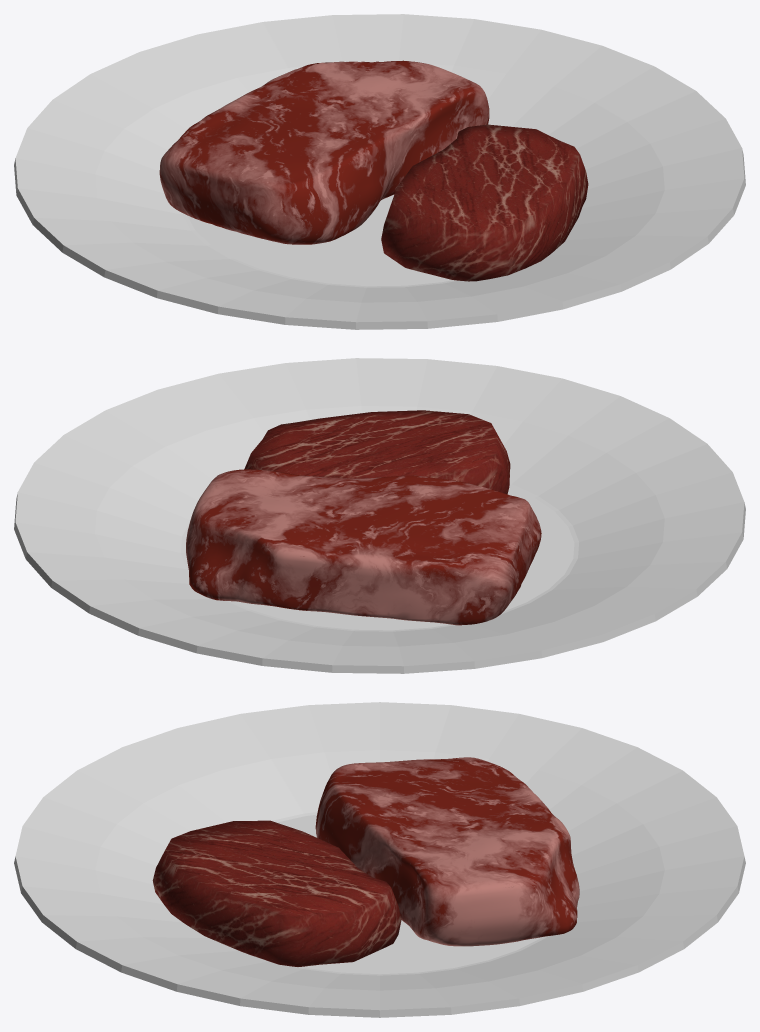
File: trimmed_pork.fbx
The picture shows the model from 3 angles, top to bottom: view 1: azimuth 30°, elevation 25°; view 2: azimuth 150°, elevation 25°; view 3: azimuth 270°, elevation 25°; orthographic projection.
Visible parts, largest first — view 1: 원형.002, Raw beef meat, Cube; view 2: 원형.002, Raw beef meat, Cube; view 3: 원형.002, Raw beef meat, Cube.
Boxes of the visible parts, x1,y1,x2,y2 form: 원형.002: [14, 14, 745, 329]; Raw beef meat: [159, 60, 489, 244]; Cube: [381, 124, 588, 281]; 원형.002: [14, 358, 745, 673]; Raw beef meat: [186, 469, 541, 625]; Cube: [244, 410, 510, 494]; 원형.002: [14, 702, 745, 1017]; Raw beef meat: [315, 757, 579, 946]; Cube: [152, 820, 401, 966].
Size of the model in its own units: 278 by 37.2 by 278.
